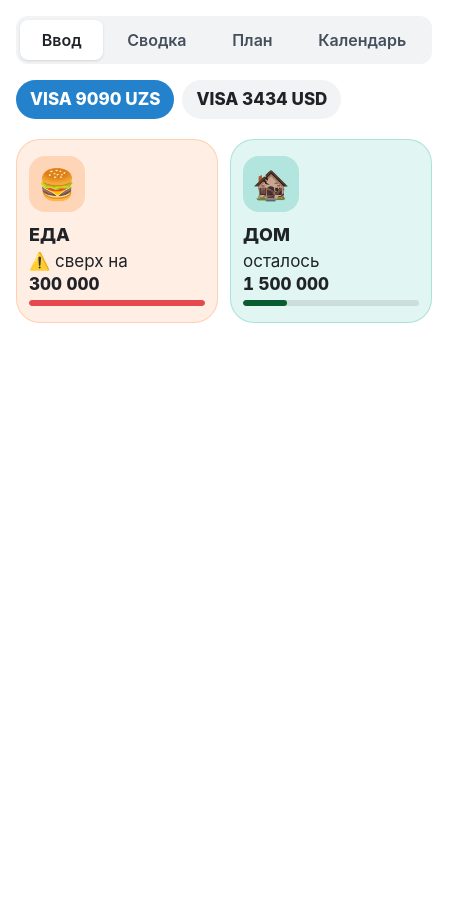
Test: App › opens with today's numbers from the phone while it asks for fresh ones
The width and height of the screenshot is (449, 900).
Expected: the button "🍔 ЕДА ⚠️ сверх на 300 000" is shown, [16, 139, 218, 323]
What coordinates should you click on to do the following:
click the tab "Сводка"
I would click on:
 (157, 40)
Its box is [105, 20, 208, 60].
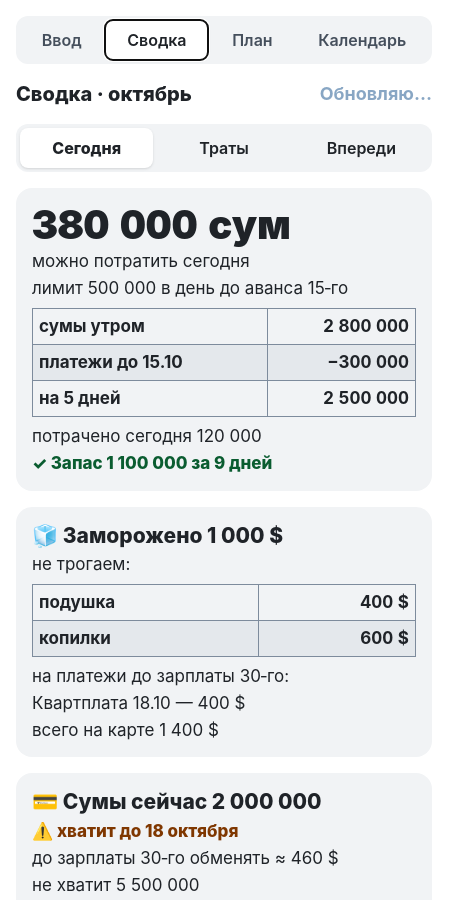
Expected: the element named "Можно сегодня" is shown, [16, 188, 432, 491]
Expected: the button "Обновляю…" is shown, [320, 80, 432, 108]
